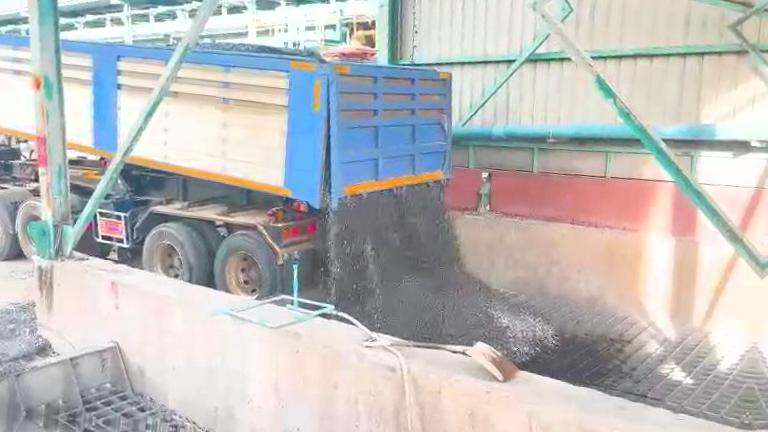gravel: (325, 183, 555, 360), (0, 302, 51, 405), (195, 42, 326, 62)
